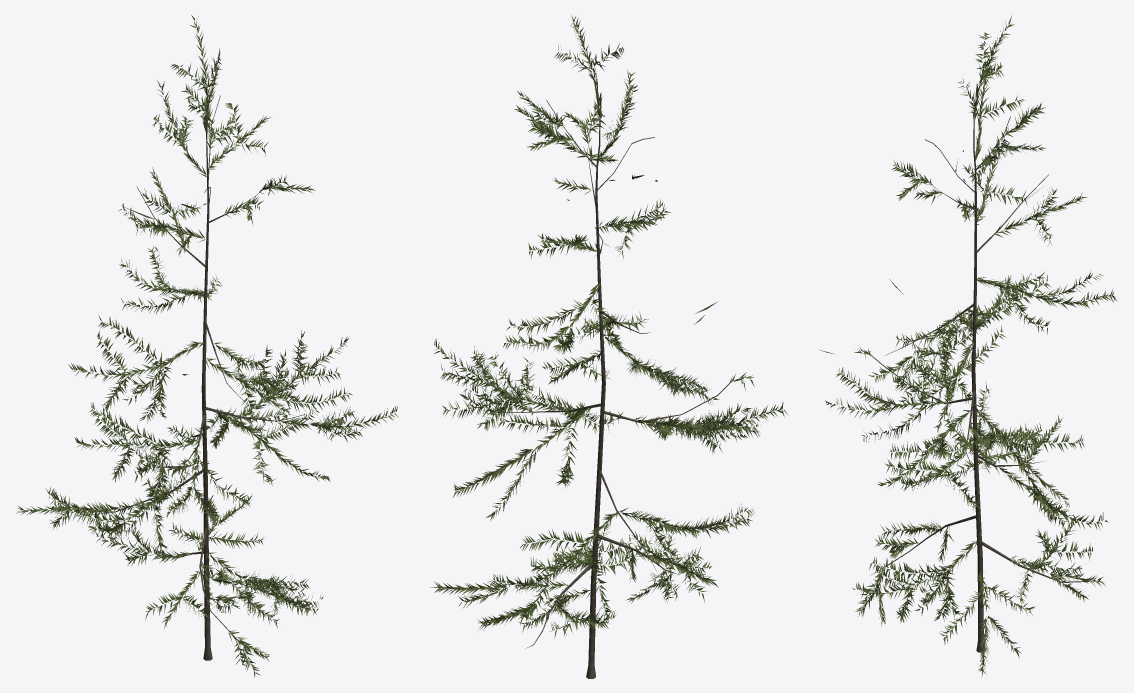
File: tree_fir_young.glb
3 renders of one model, left to right at view 1: azimuth 30°, elevation 25°; view 2: azimuth 150°, elevation 25°; view 3: azimuth 270°, elevation 25°, orthographic. The views are drawn at different scales.
Visible parts, largest first — view 1: tree_fir_young; view 2: tree_fir_young; view 3: tree_fir_young.
Boxes of the visible parts, x1,y1,x2,y2 form: tree_fir_young: (16,15,398,677); tree_fir_young: (430,15,787,678); tree_fir_young: (820,15,1117,677).
Size of what is drawn, in the model's own units: 3.53 by 7 by 3.02.
Materials: 2 (2 with a texture image).
